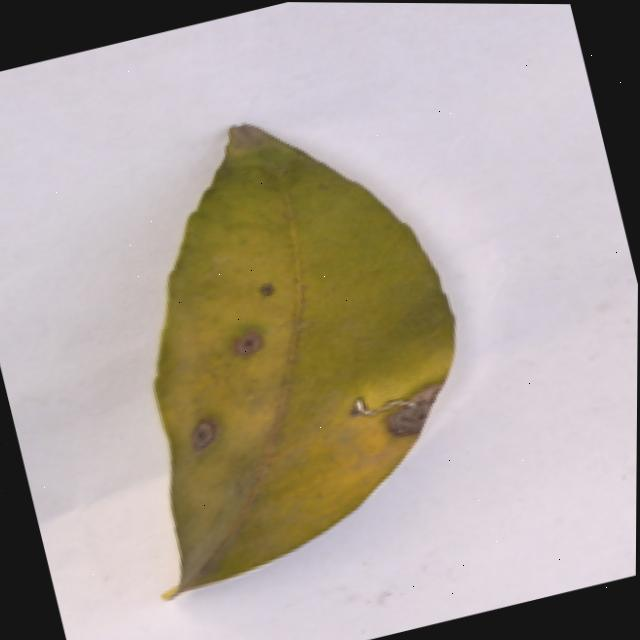canker: (154, 126, 451, 596), (352, 361, 472, 462), (165, 395, 257, 469), (210, 307, 283, 374)
